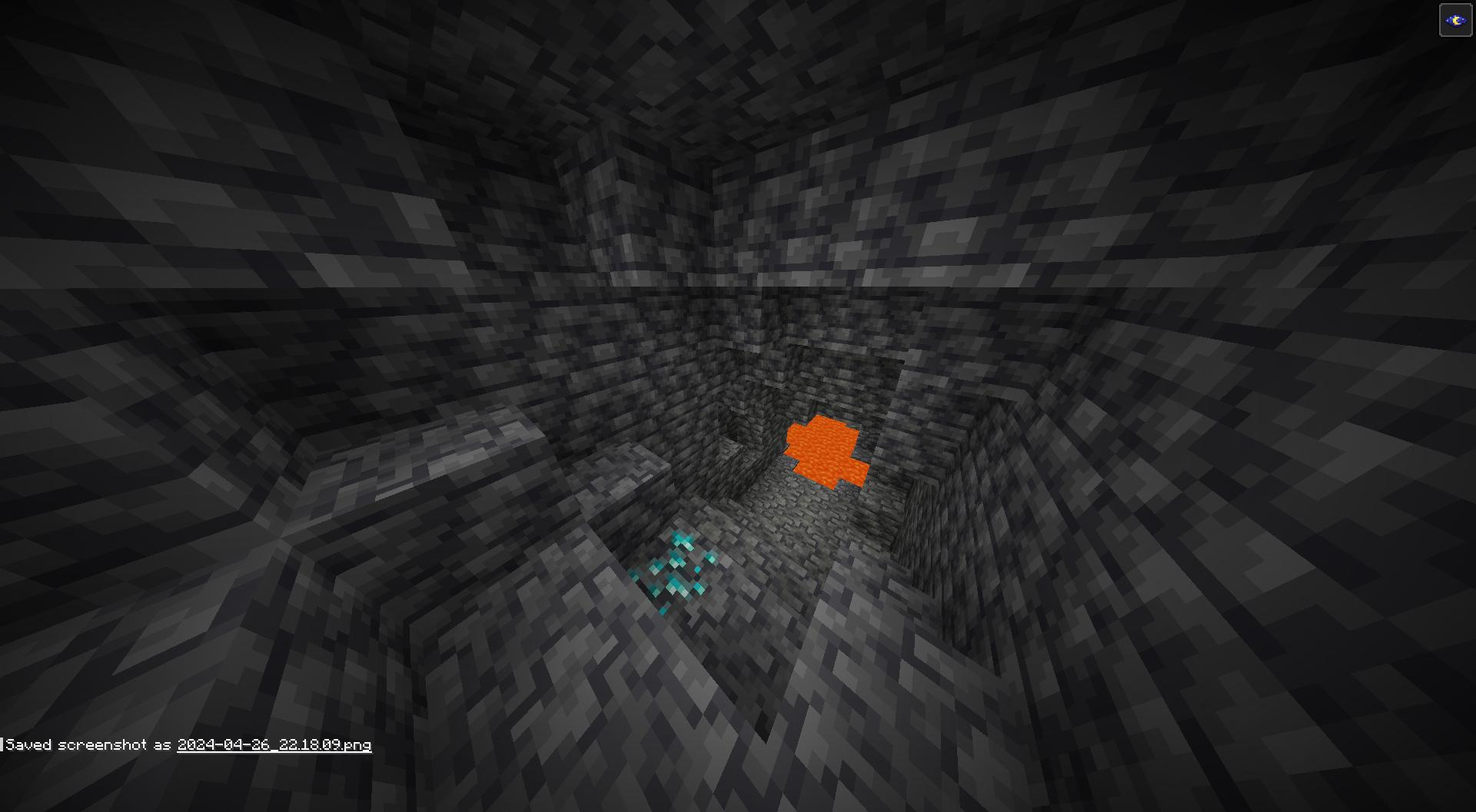diamond ore: (631, 525, 720, 617)
